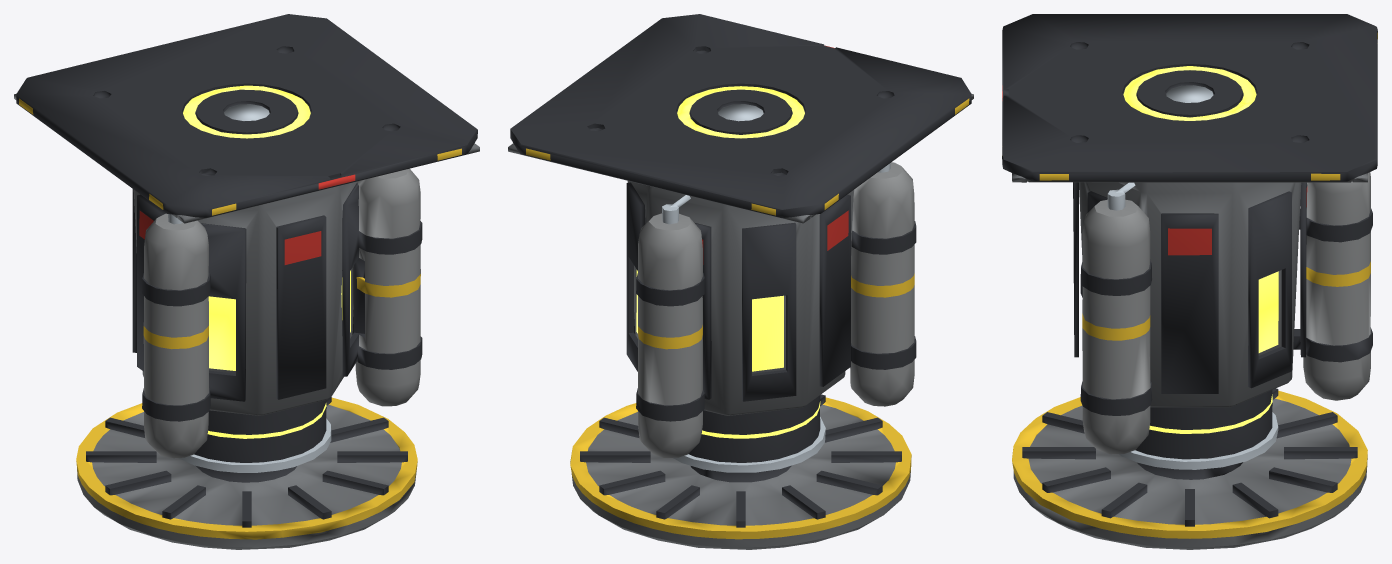
File: R4M_JumpDrive_LOD1.fbx
3 renders of one model, left to right at view 1: azimuth 30°, elevation 25°; view 2: azimuth 150°, elevation 25°; view 3: azimuth 270°, elevation 25°, orthographic. The views are drawn at different scales.
Visible parts, largest first — view 1: R4M_JumpDrive_Housing_LOD1, R4M_JumpDrive_Piston_LOD1; view 2: R4M_JumpDrive_Housing_LOD1, R4M_JumpDrive_Piston_LOD1; view 3: R4M_JumpDrive_Housing_LOD1, R4M_JumpDrive_Piston_LOD1.
Boxes of the visible parts, x1=… form: R4M_JumpDrive_Housing_LOD1: x1=14, y1=14, x2=479, y2=472; R4M_JumpDrive_Piston_LOD1: x1=76, y1=396, x2=417, y2=549; R4M_JumpDrive_Housing_LOD1: x1=508, y1=14, x2=973, y2=472; R4M_JumpDrive_Piston_LOD1: x1=570, y1=394, x2=911, y2=549; R4M_JumpDrive_Housing_LOD1: x1=1002, y1=14, x2=1377, y2=469; R4M_JumpDrive_Piston_LOD1: x1=1012, y1=388, x2=1367, y2=549.
Bounding box in the file's own units: 0.5108 × 0.577 × 0.5108.
